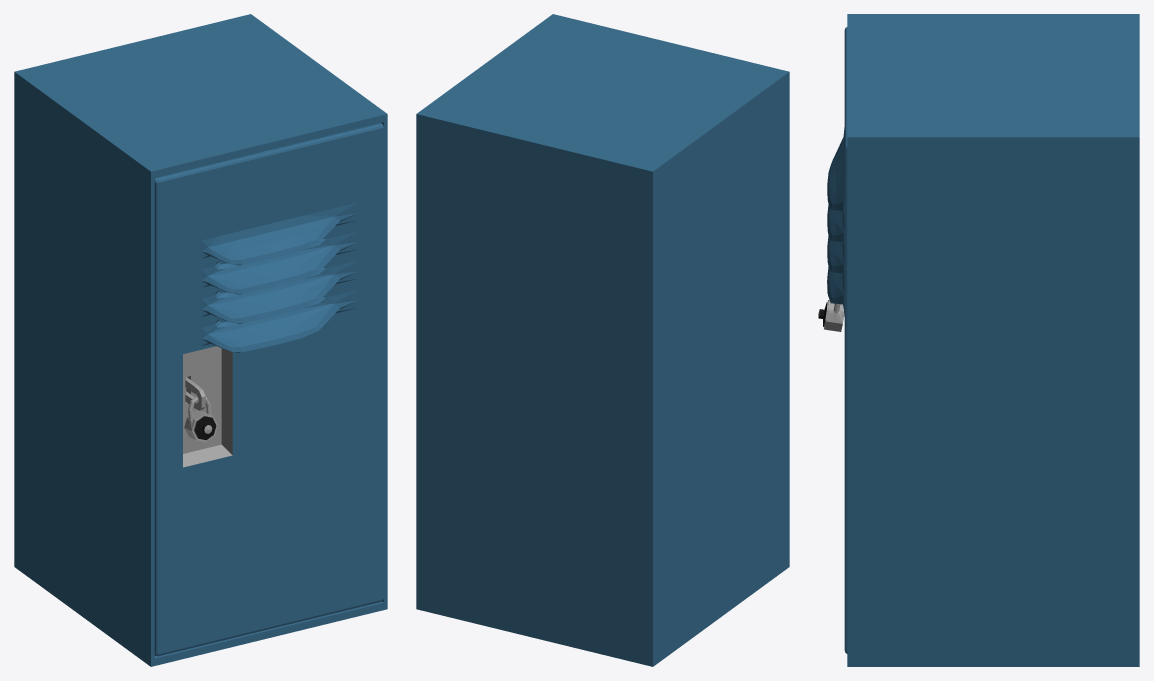
The model's file is lockedLocker.obj.
The picture shows the model from 3 angles, left to right: view 1: azimuth 30°, elevation 25°; view 2: azimuth 150°, elevation 25°; view 3: azimuth 270°, elevation 25°; orthographic projection. The views are drawn at different scales.
Parts seen in each view (by area): view 1: Cube; view 2: Cube; view 3: Cube.
Part boxes in pixels (x1,y1,x2,y2): Cube: (14,14,387,666); Cube: (416,14,789,666); Cube: (818,14,1139,666).
Size of the model in its own units: 20 by 40 by 21.99.
